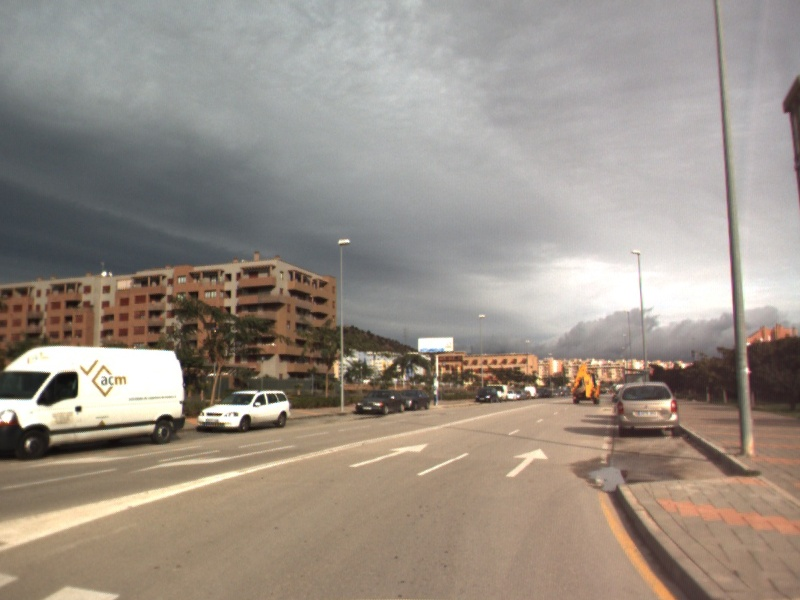STRAIGHT: (347, 442, 431, 469), (504, 447, 550, 479)
